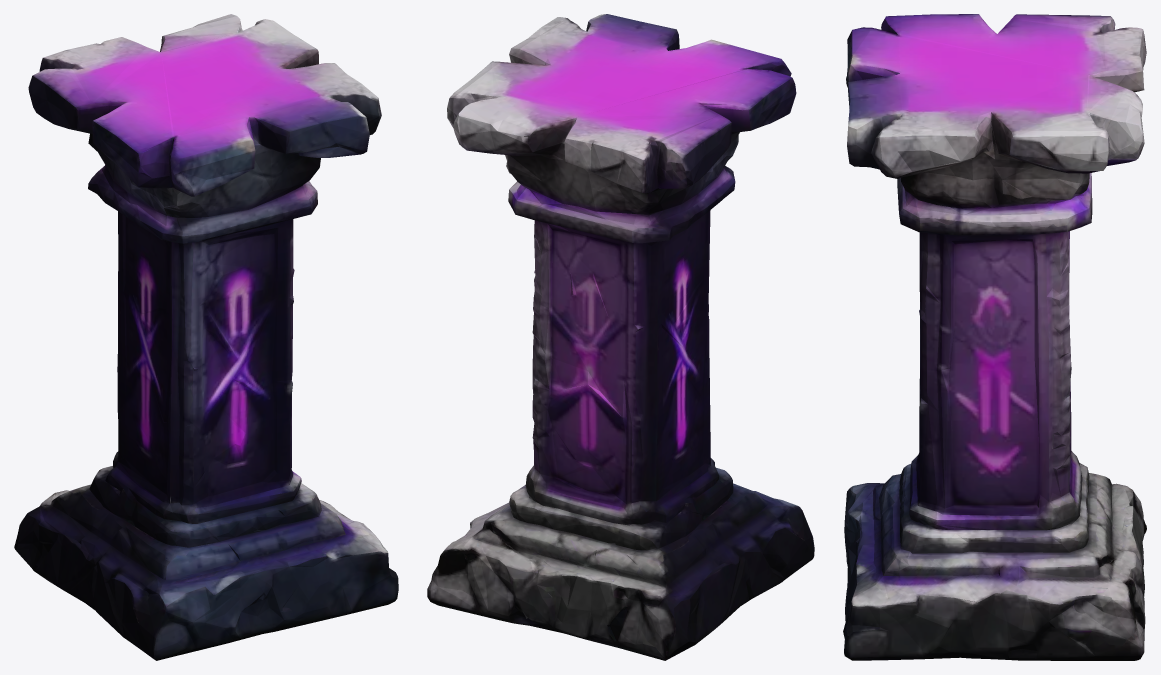
The model's file is prop_rift_ruin.glb.
3 views of the same model, side by side, from view 1: azimuth 30°, elevation 25°; view 2: azimuth 150°, elevation 25°; view 3: azimuth 270°, elevation 25° (orthographic). The views are drawn at different scales.
Visible parts, largest first — view 1: geometry_0; view 2: geometry_0; view 3: geometry_0.
Part boxes in pixels (<box>): geometry_0: <box>14,14,398,660</box>; geometry_0: <box>427,14,814,660</box>; geometry_0: <box>843,14,1146,660</box>.
Size of the model in its own units: 0.528 by 0.9985 by 0.5204.
1 material, 1 textured.
